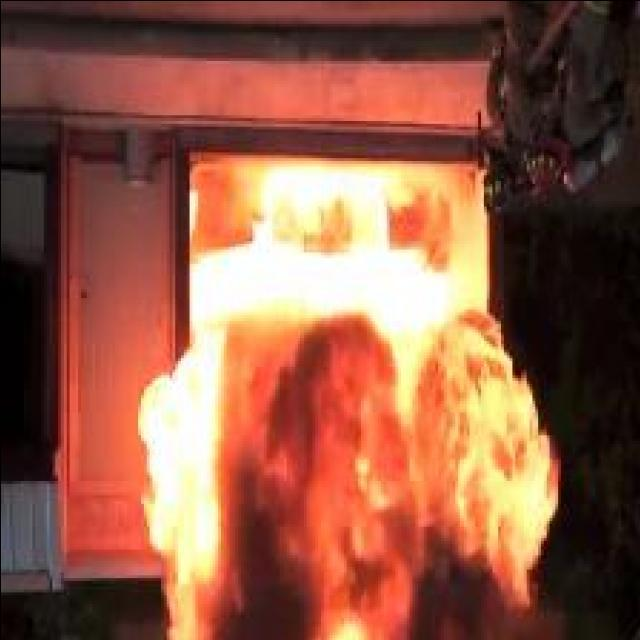Fire: (140, 167, 557, 639)
